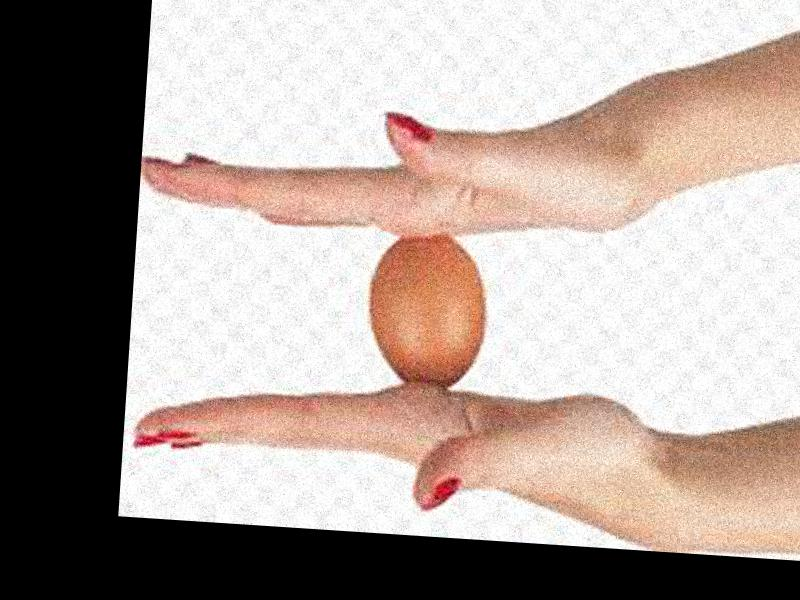Eggs: (368, 230, 490, 388)
